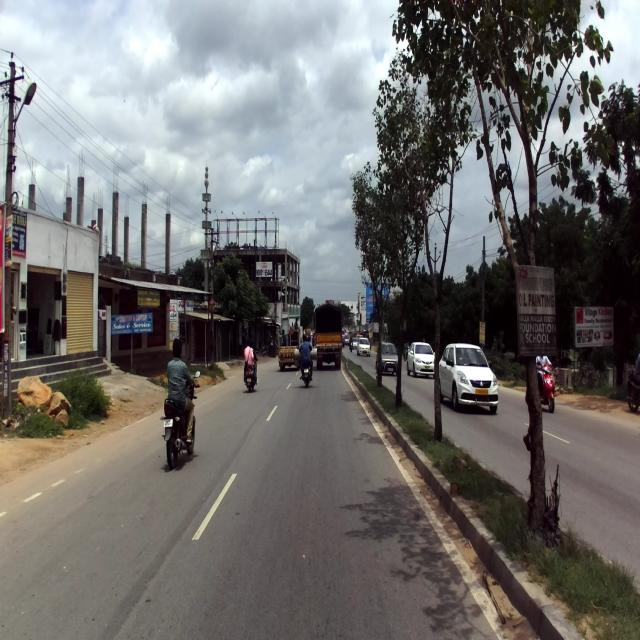car: (438, 341, 499, 415)
motorcycle: (159, 369, 201, 470)
